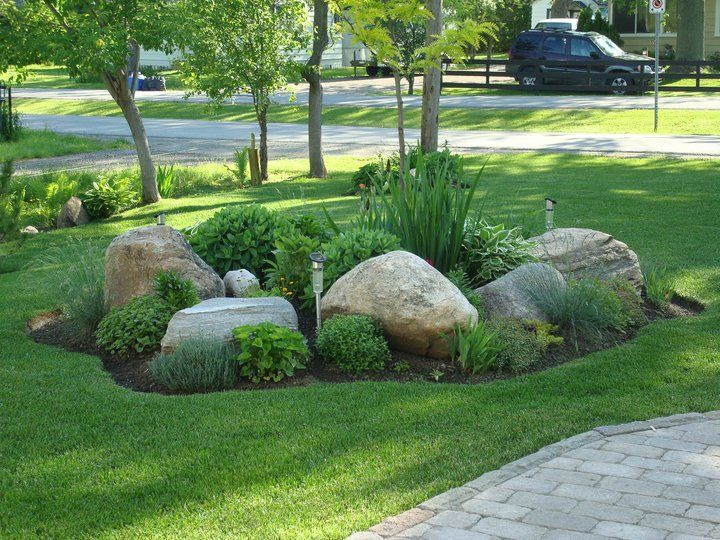grass: (2, 386, 373, 539), (477, 144, 709, 222), (562, 319, 714, 436), (379, 380, 555, 479), (648, 227, 714, 314)
rock: (319, 249, 481, 338), (103, 228, 228, 310), (159, 297, 303, 360), (523, 228, 645, 294), (484, 266, 565, 339)
tree: (124, 103, 162, 203), (422, 72, 441, 173), (308, 82, 326, 177)
